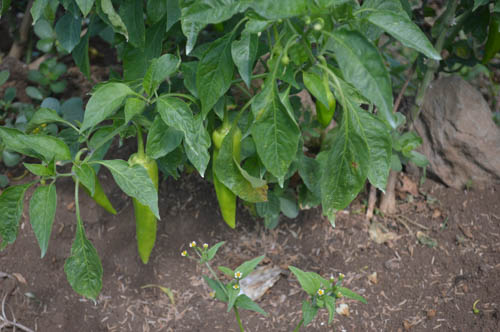ChiliPepper: (127, 158, 165, 263), (213, 130, 244, 229), (79, 165, 120, 214), (309, 92, 336, 127)
